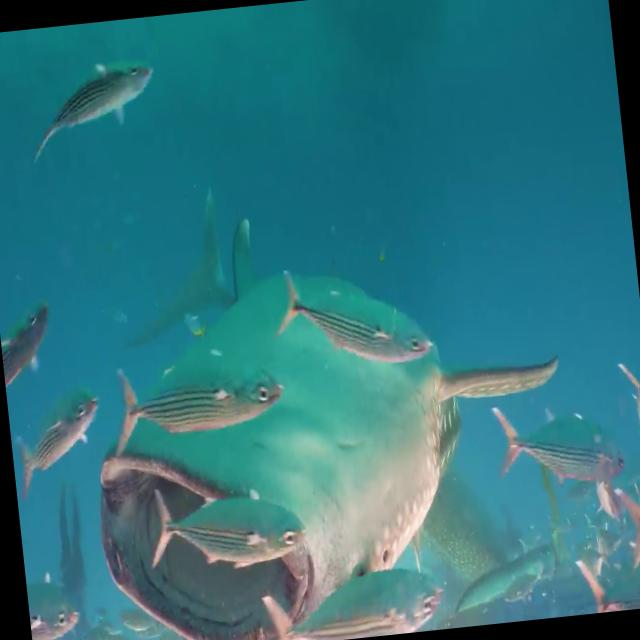fish: (64, 145, 581, 640), (268, 237, 442, 395), (100, 324, 282, 459), (137, 464, 310, 601), (472, 383, 622, 508), (258, 558, 469, 640), (13, 56, 166, 168), (7, 388, 118, 501), (0, 303, 68, 400), (25, 572, 90, 640), (607, 490, 640, 580)
